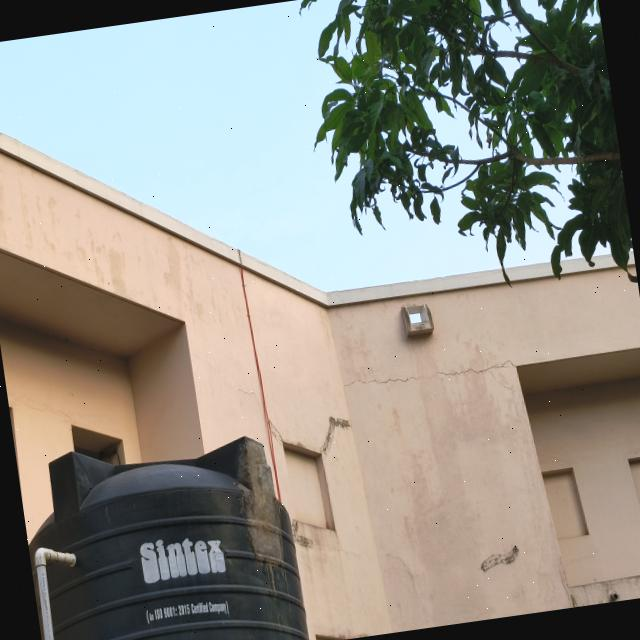crack: (432, 356, 517, 378), (343, 375, 423, 386)
stain_mould: (237, 438, 283, 562)
